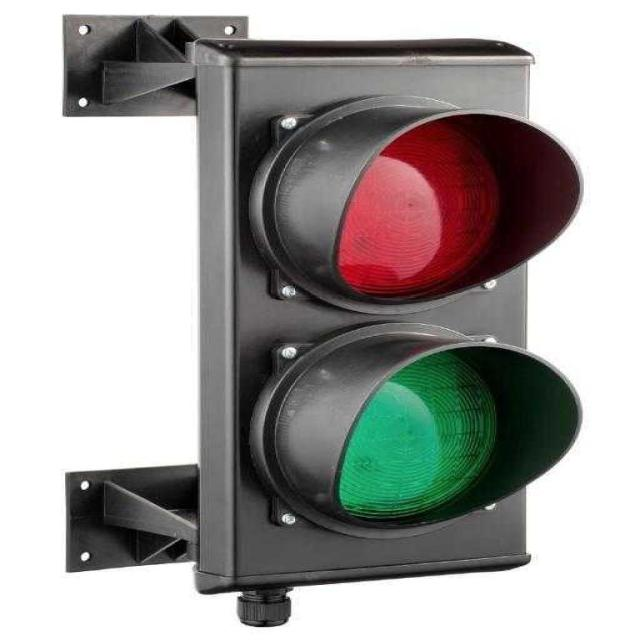Traffic Light -Off-: (174, 32, 592, 599)
